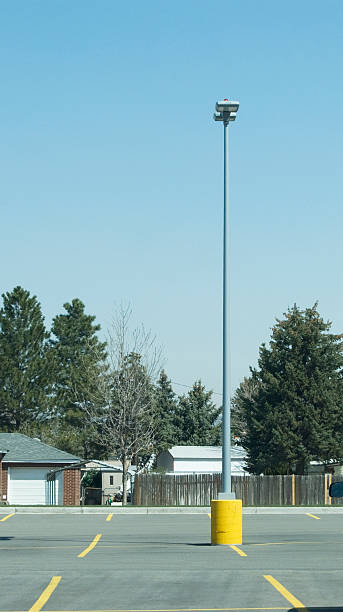light_pole: (210, 150, 245, 545)
